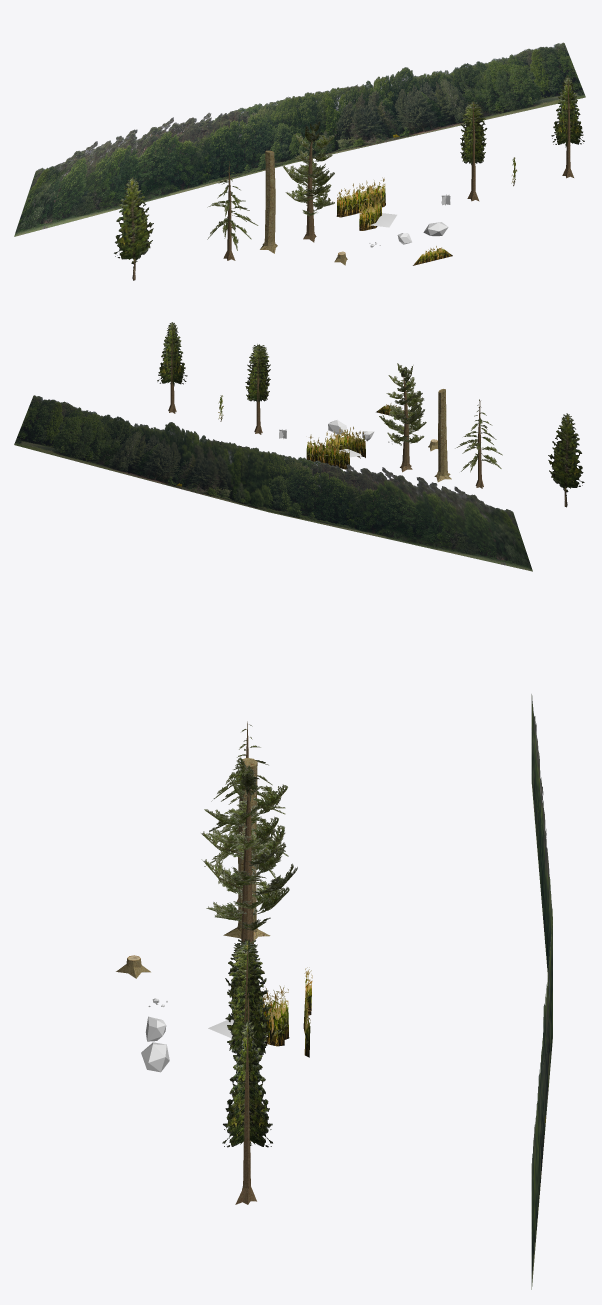
The model's file is NatureProps.fbx.
3 views of the same model, one above another, from view 1: azimuth 30°, elevation 25°; view 2: azimuth 150°, elevation 25°; view 3: azimuth 270°, elevation 25° (orthographic). The views are drawn at different scales.
Parts seen in each view (by area): view 1: TreeLinePlane, Tree.1, TreePlane, Tree.Low.2, Tree.Low.1, Tree.2, Tree.003, CropPlaneStraight, CropPlaneCurve.45; view 2: TreeLinePlane, Tree.1, TreePlane, Tree.Low.2, Tree.Low.1, Tree.2, CropPlaneStraight, Tree.003, CropPlaneCurve.90; view 3: Tree.1, TreeLinePlane, Tree.Low.2, Tree.Low.1, Tree.003, Tree.2.
Boxes of the visible parts, x1,y1,x2,y2 form: TreeLinePlane: [14, 42, 585, 236]; Tree.1: [282, 121, 334, 242]; TreePlane: [114, 177, 153, 280]; Tree.Low.2: [551, 75, 584, 178]; Tree.Low.1: [460, 101, 487, 201]; Tree.2: [207, 161, 258, 260]; Tree.003: [260, 150, 277, 253]; CropPlaneStraight: [336, 177, 385, 217]; CropPlaneCurve.45: [359, 188, 381, 230]; TreeLinePlane: [14, 395, 532, 571]; Tree.1: [379, 363, 426, 472]; TreePlane: [548, 413, 584, 507]; Tree.Low.2: [157, 322, 187, 413]; Tree.Low.1: [245, 344, 270, 434]; Tree.2: [455, 399, 502, 488]; CropPlaneStraight: [306, 434, 349, 469]; Tree.003: [434, 389, 451, 482]; CropPlaneCurve.90: [331, 427, 360, 458]; Tree.1: [201, 757, 297, 972]; TreeLinePlane: [531, 694, 552, 1289]; Tree.Low.2: [222, 1020, 272, 1204]; Tree.Low.1: [225, 937, 270, 1054]; Tree.003: [223, 758, 270, 940]; Tree.2: [204, 721, 288, 904].
Bounding box in the file's own units: 42.2 × 8.58 × 17.75.
